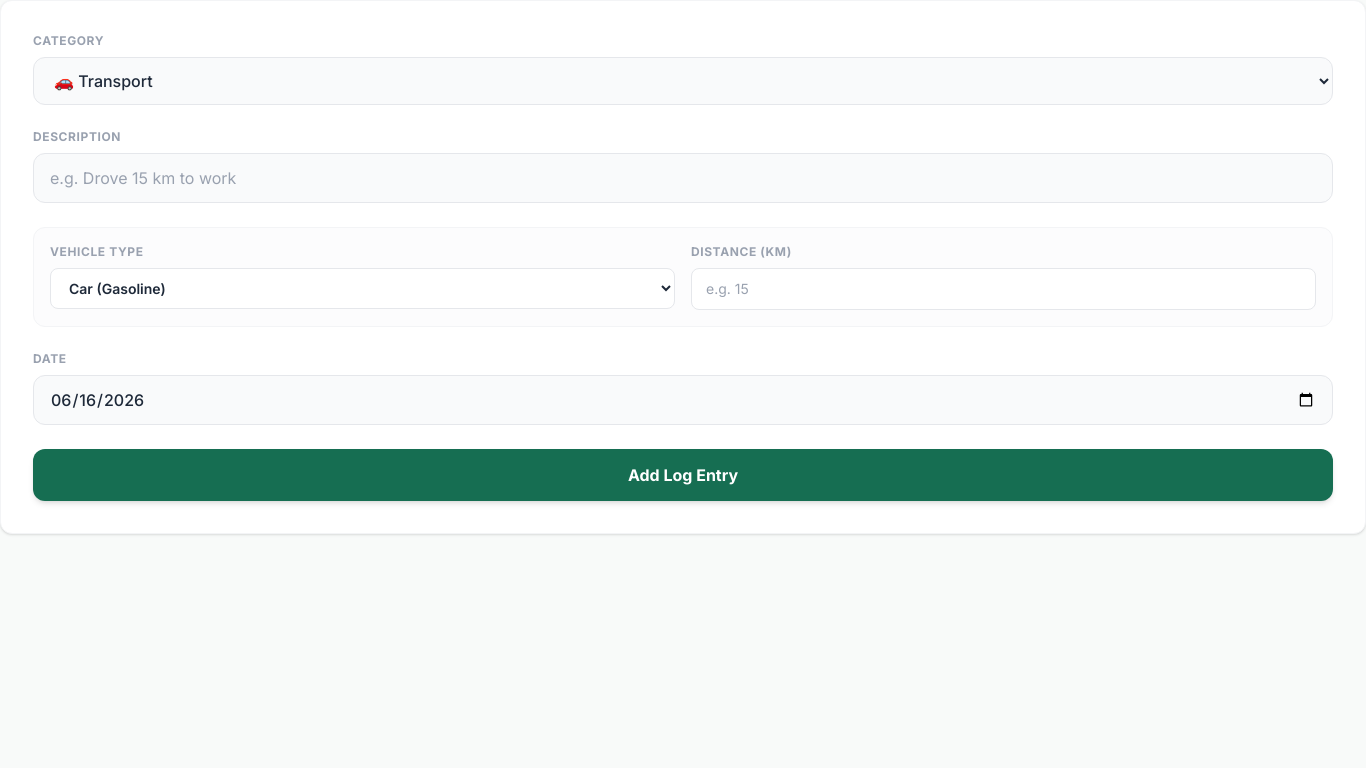
Scenario: ActivityForm Component › shows validation error for description when empty on submit
# Description is empty by default
Click the button "Add Log Entry": (683, 475) [33,449,1333,501]
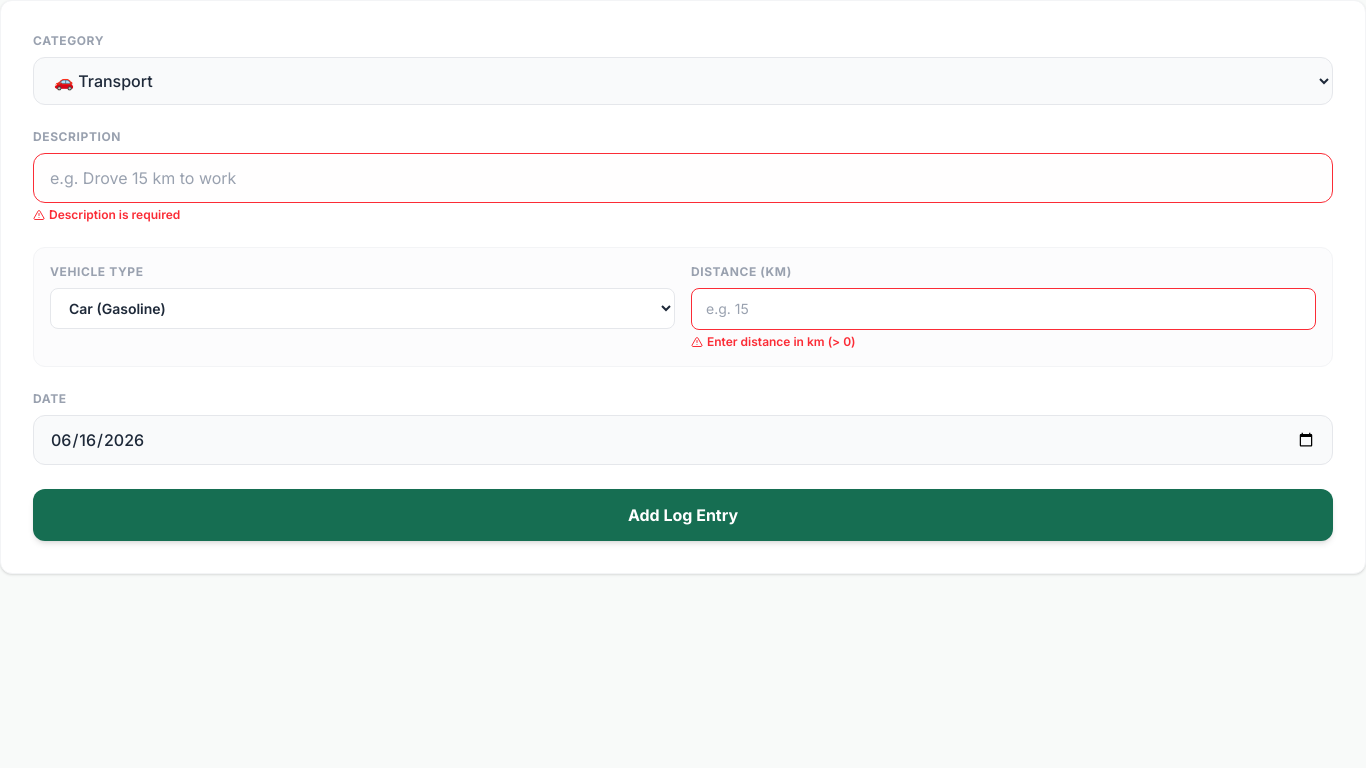
Expected: the text "Description is required" is shown, [33,207,180,222]
